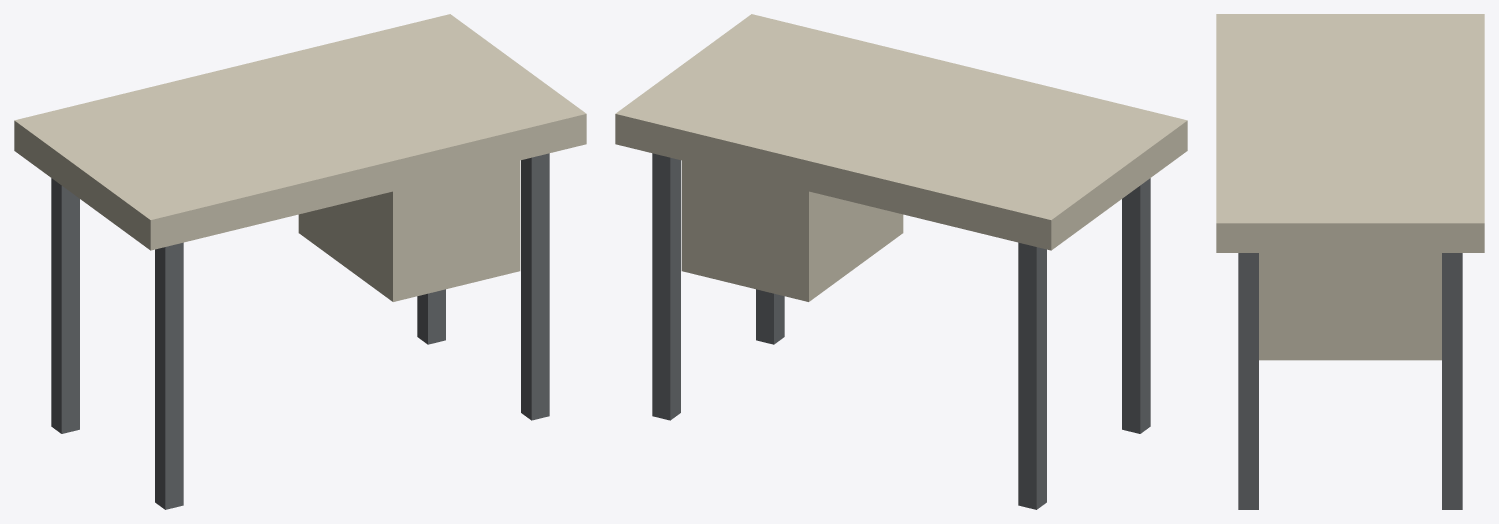
File: desk_04.glb
3 renders of one model, left to right at view 1: azimuth 30°, elevation 25°; view 2: azimuth 150°, elevation 25°; view 3: azimuth 270°, elevation 25°, orthographic.
Visible parts, largest first — view 1: top, drawer, leg-0.5040.24700000000000003, leg0.5040.24700000000000003, leg-0.504-0.24700000000000003, leg0.504-0.24700000000000003; view 2: top, drawer, leg-0.504-0.24700000000000003, leg0.504-0.24700000000000003, leg-0.5040.24700000000000003, leg0.5040.24700000000000003; view 3: top, drawer, leg0.504-0.24700000000000003, leg0.5040.24700000000000003.
Part boxes in pixels (x1,y1,x2,y2): top: (14, 14, 586, 250); drawer: (298, 160, 520, 301); leg-0.5040.24700000000000003: (155, 242, 183, 509); leg0.5040.24700000000000003: (521, 153, 549, 420); leg-0.504-0.24700000000000003: (51, 178, 79, 433); leg0.504-0.24700000000000003: (417, 289, 445, 344); top: (615, 14, 1187, 250); drawer: (681, 160, 903, 301); leg-0.504-0.24700000000000003: (1018, 242, 1046, 509); leg0.504-0.24700000000000003: (652, 153, 680, 420); leg-0.5040.24700000000000003: (1122, 178, 1150, 433); leg0.5040.24700000000000003: (756, 289, 784, 344); top: (1216, 14, 1484, 252); drawer: (1259, 253, 1441, 360); leg0.504-0.24700000000000003: (1442, 253, 1462, 509); leg0.5040.24700000000000003: (1238, 253, 1258, 509).
Bounding box in the file's own units: 1.2 × 0.8 × 0.65.
